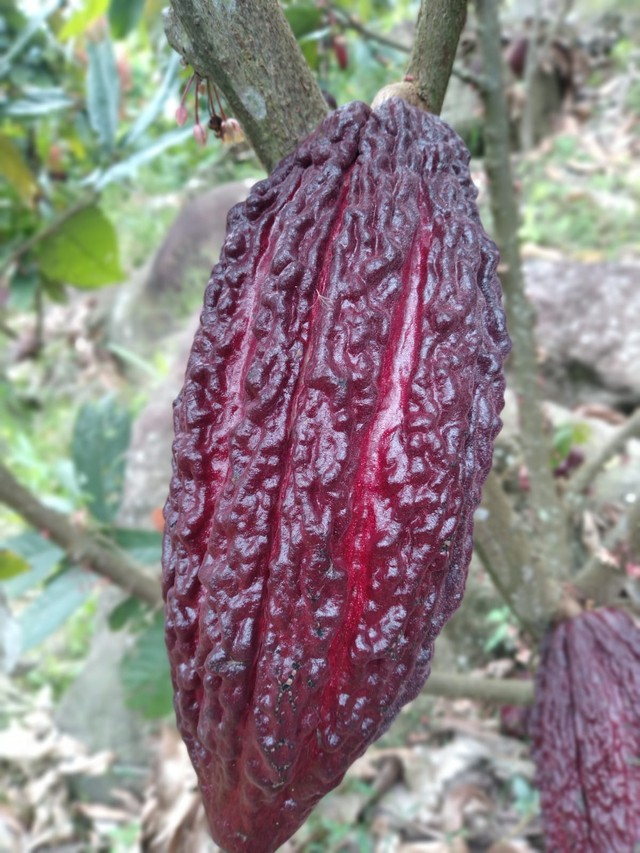Health: (108, 78, 527, 853)
